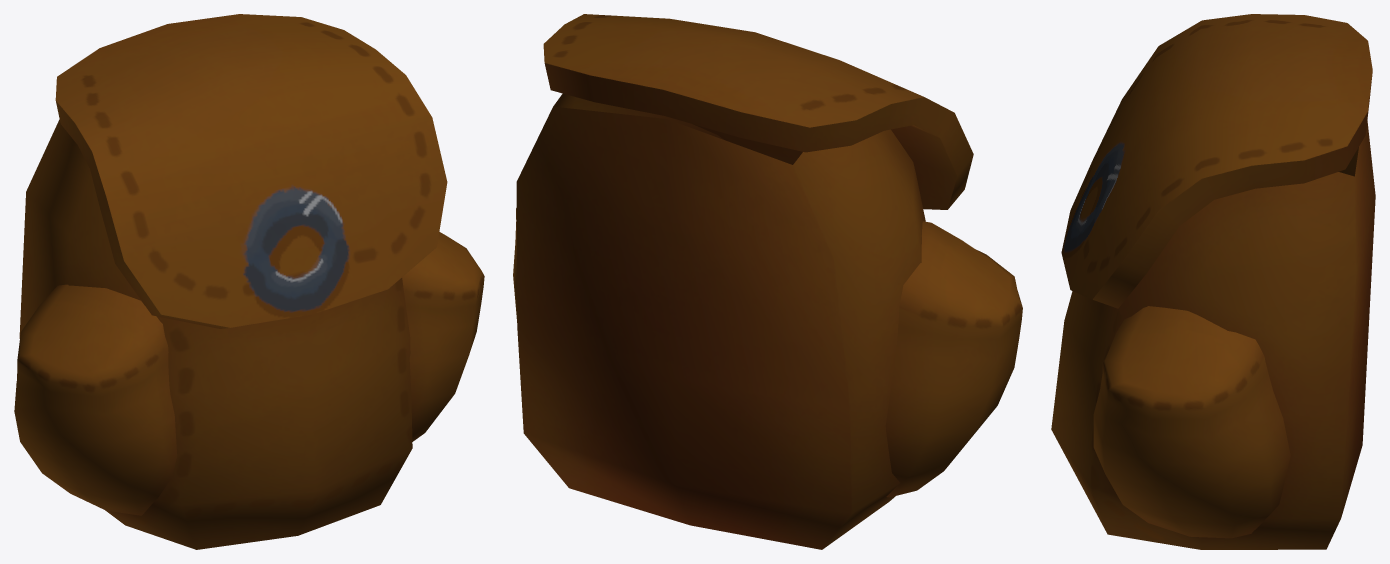
The model's file is backpack_prop.glb.
3 views of the same model, side by side, from view 1: azimuth 30°, elevation 25°; view 2: azimuth 150°, elevation 25°; view 3: azimuth 270°, elevation 25° (orthographic). The views are drawn at different scales.
Visible parts, largest first — view 1: bag_object; view 2: bag_object; view 3: bag_object.
Part boxes in pixels (x1,y1,x2,y2): bag_object: [14, 14, 484, 549]; bag_object: [513, 14, 1022, 549]; bag_object: [1051, 14, 1375, 549].
Size of the model in its own units: 0.4819 by 0.4494 by 0.2924.
Materials: 1 (1 with a texture image).
